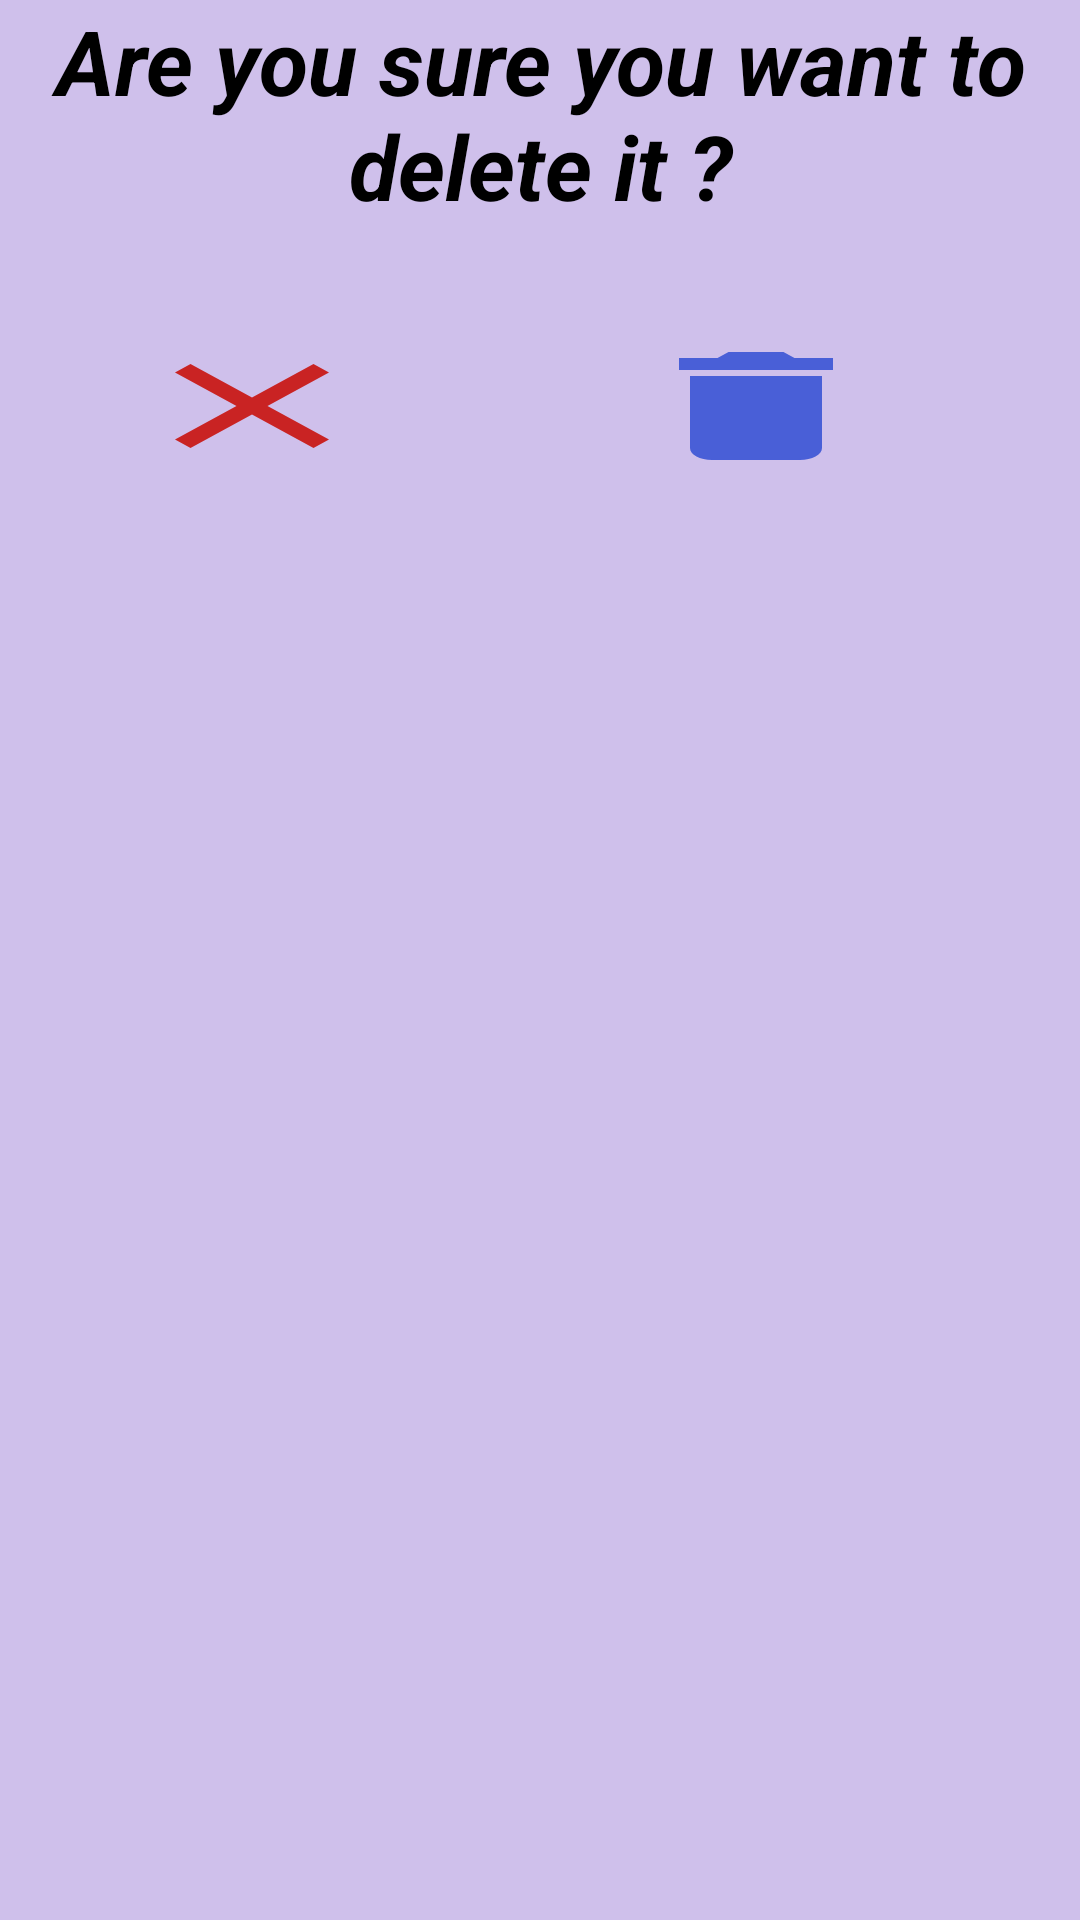

Icon click points for this 1080w x 1920h phone screenshot, format (x,y):
close: (252,406)
